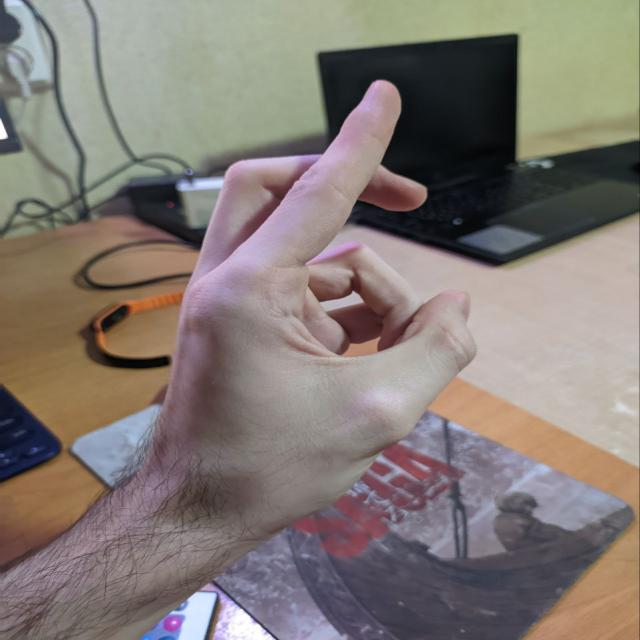b: (144, 80, 515, 463)
